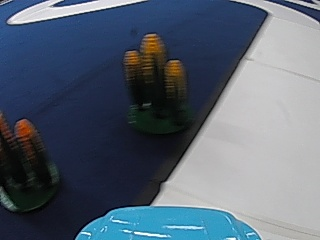corn: (2, 114, 59, 214), (127, 38, 184, 128)
